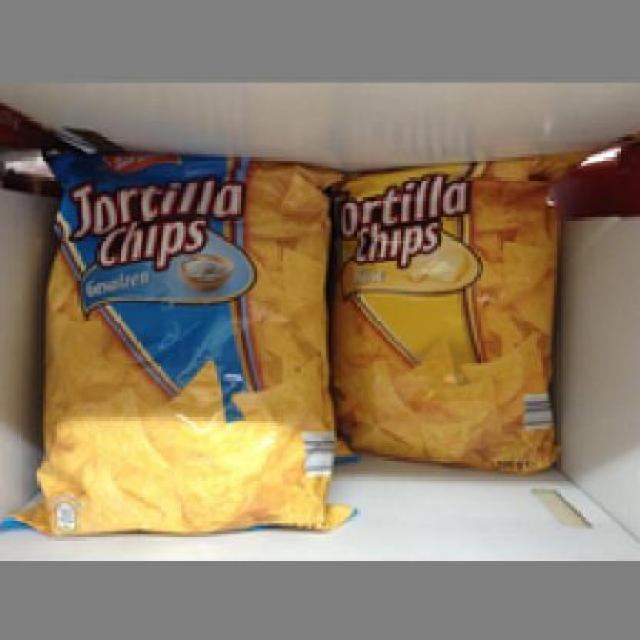Chips: (37, 148, 334, 532), (334, 153, 572, 470)
